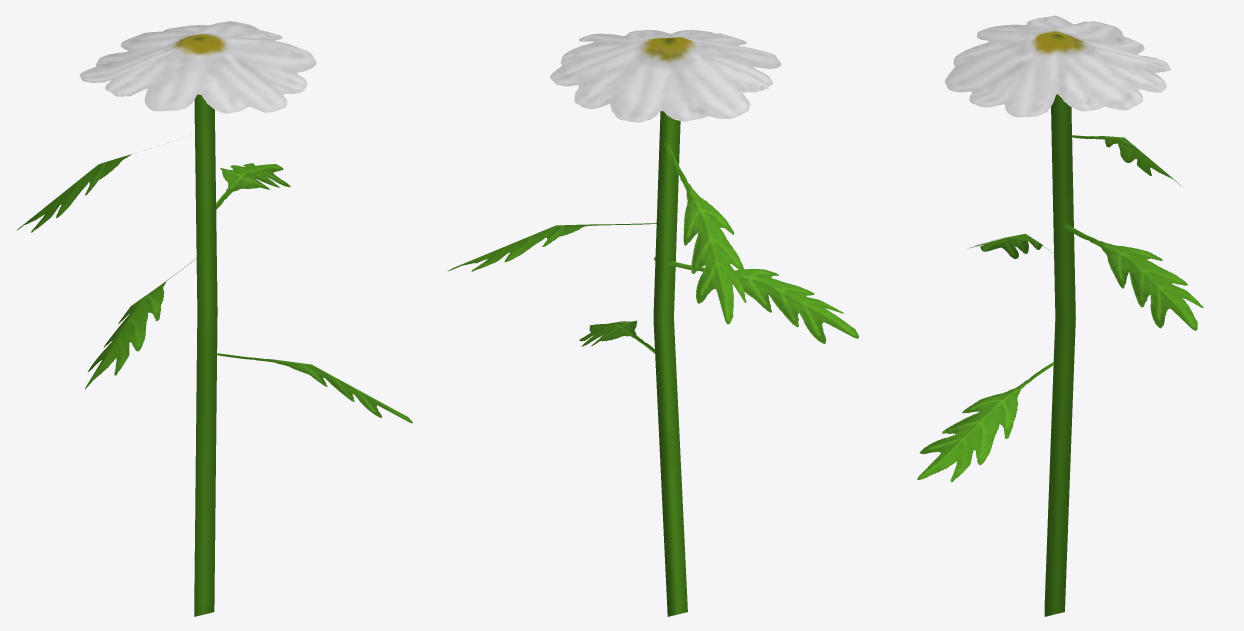
Rendered from Chamomile.fbx.
3 renders of one model, left to right at view 1: azimuth 30°, elevation 25°; view 2: azimuth 150°, elevation 25°; view 3: azimuth 270°, elevation 25°, orthographic.
Visible parts, largest first — view 1: Chamomile; view 2: Chamomile; view 3: Chamomile.
Boxes of the visible parts, x1=… form: Chamomile: x1=17, y1=21, x2=412, y2=616; Chamomile: x1=448, y1=30, x2=858, y2=616; Chamomile: x1=917, y1=15, x2=1203, y2=616.
Bounding box in the file's own units: 29.96 × 51.18 × 26.87.
